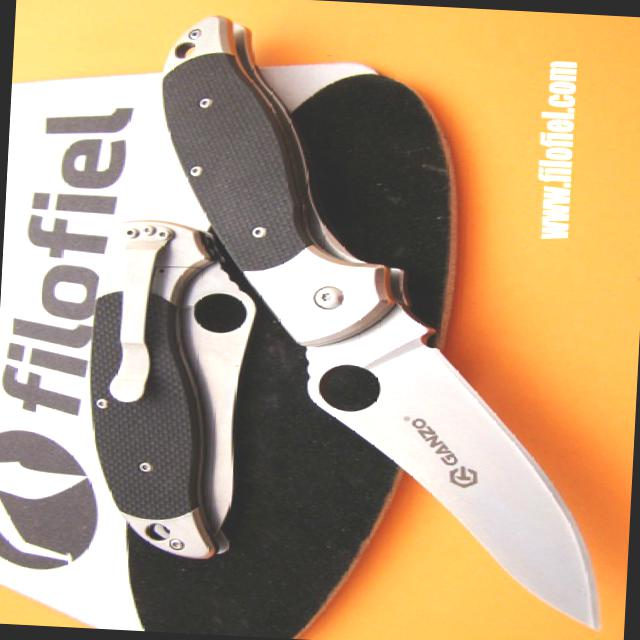knife: (274, 282, 627, 639)
